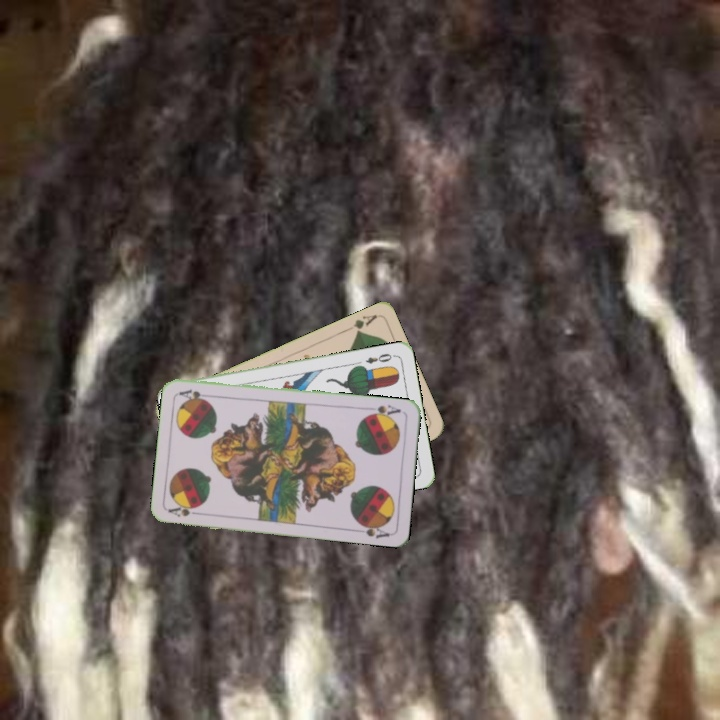EO: (362, 349, 397, 366)
GA: (341, 310, 380, 337)
SA: (364, 400, 403, 421), (165, 501, 205, 519)
